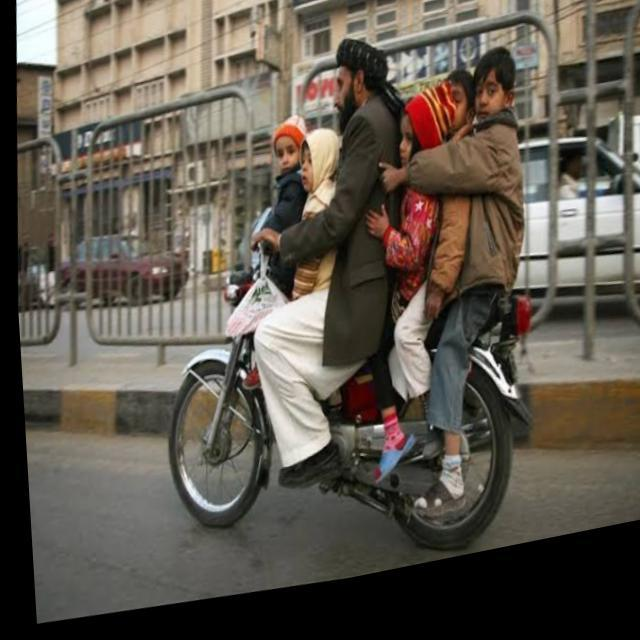Nonhelmet: (466, 39, 530, 132)
